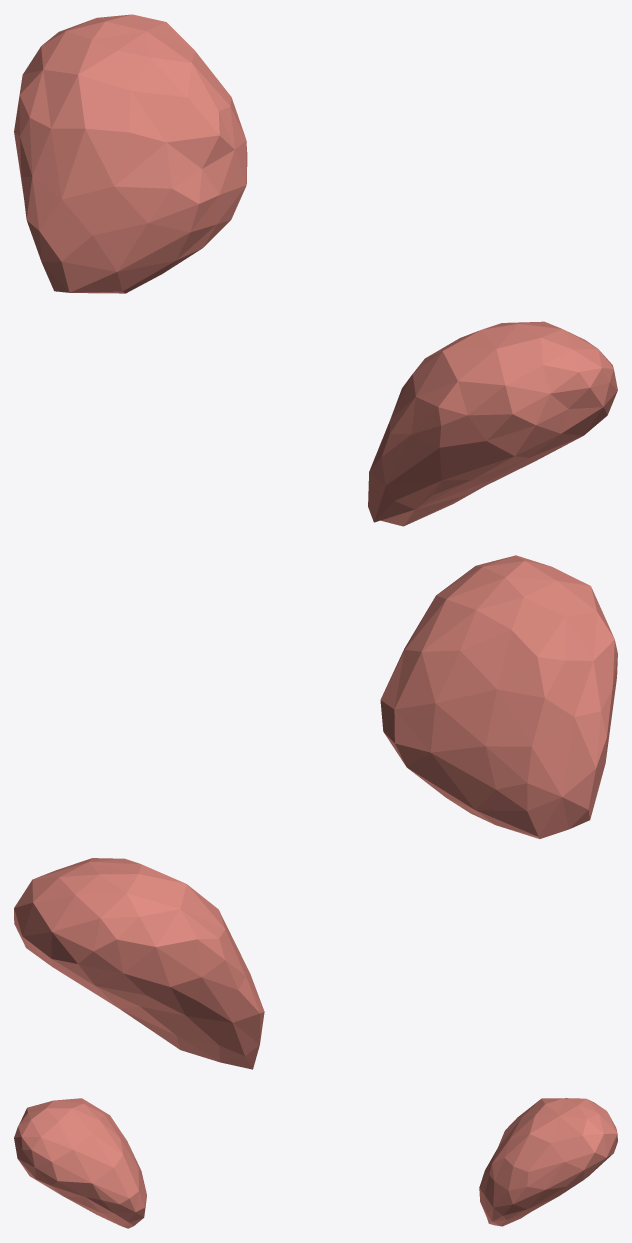
3 renders of one model, top to bottom at view 1: azimuth 30°, elevation 25°; view 2: azimuth 150°, elevation 25°; view 3: azimuth 270°, elevation 25°, orthographic. The views are drawn at different scales.
Visible parts, largest first — view 1: 1109.obj; view 2: 1109.obj; view 3: 1109.obj.
Boxes of the visible parts, x1,y1,x2,y2 form: 1109.obj: (14, 14, 617, 526); 1109.obj: (14, 555, 617, 1069); 1109.obj: (14, 1098, 617, 1228).
Size of the model in its own units: 434 by 428 by 1739.
